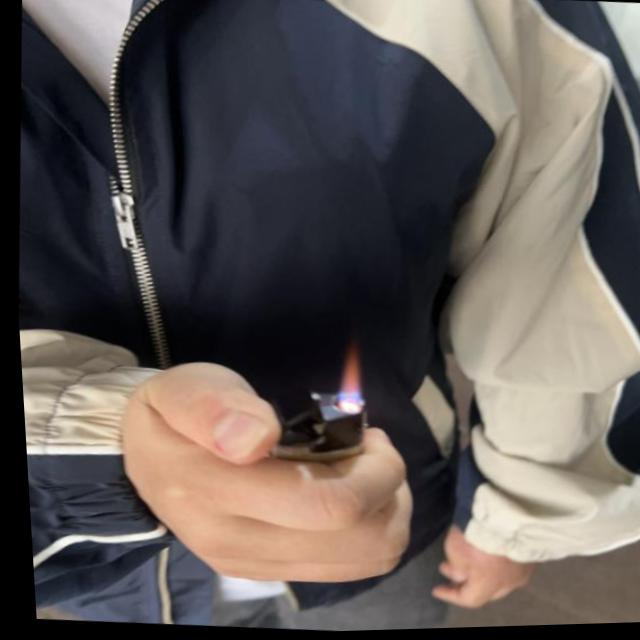Fire: (330, 354, 362, 402)
